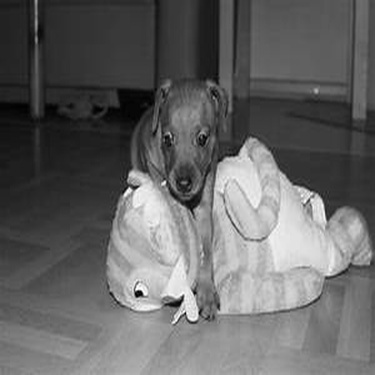dog: (101, 67, 252, 333)
